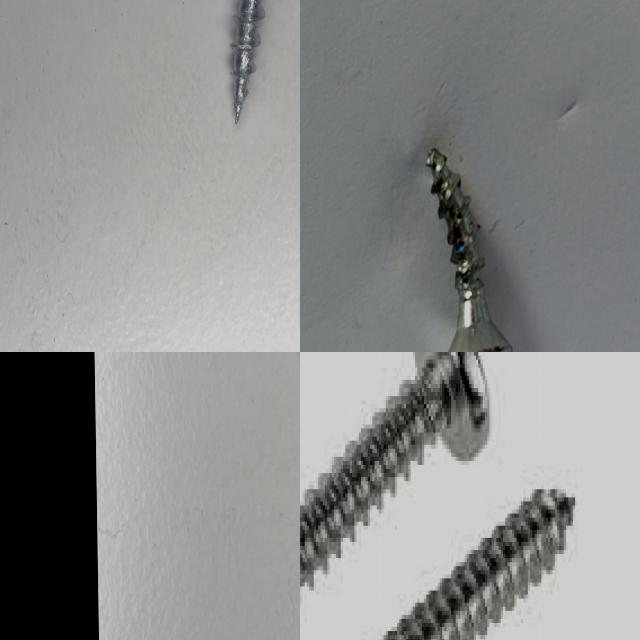Screw: (300, 352, 489, 598), (379, 489, 575, 640), (427, 147, 513, 352), (232, 0, 264, 121)
